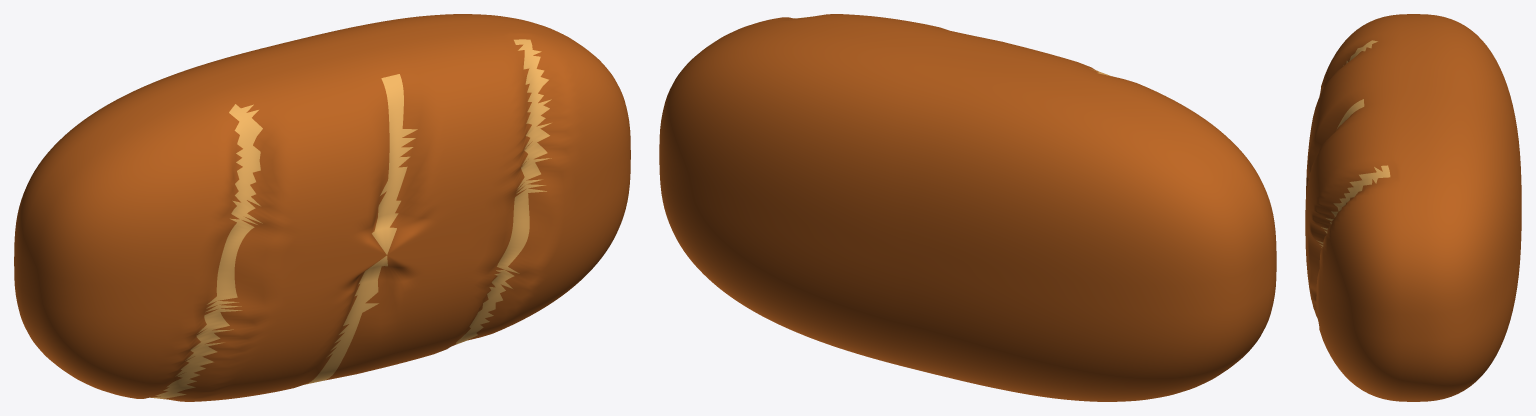
Rendered from bread.obj.
3 views of the same model, side by side, from view 1: azimuth 30°, elevation 25°; view 2: azimuth 150°, elevation 25°; view 3: azimuth 270°, elevation 25° (orthographic). The views are drawn at different scales.
Parts seen in each view (by area): view 1: bread; view 2: bread; view 3: bread.
Boxes of the visible parts, x1,y1,x2,y2 form: bread: (14,14,630,401); bread: (659,14,1276,401); bread: (1305,14,1521,401).
Bounding box in the file's own units: 0.2 × 0.1 × 0.0761.
